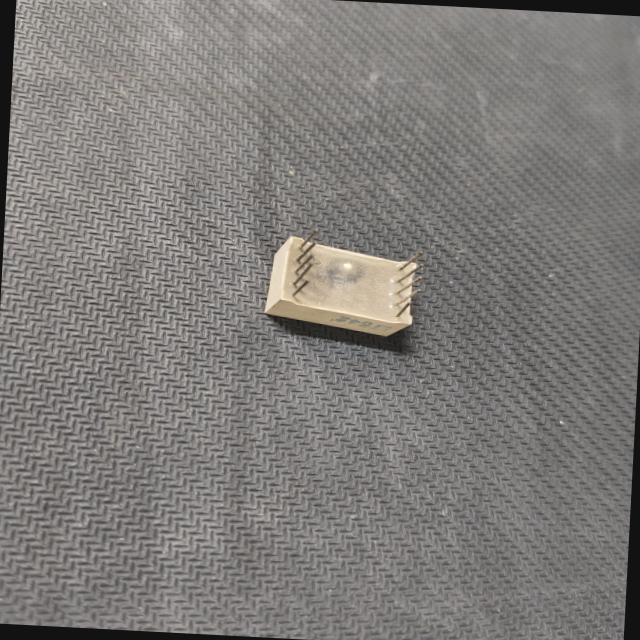sevensegment: (253, 222, 434, 349)
